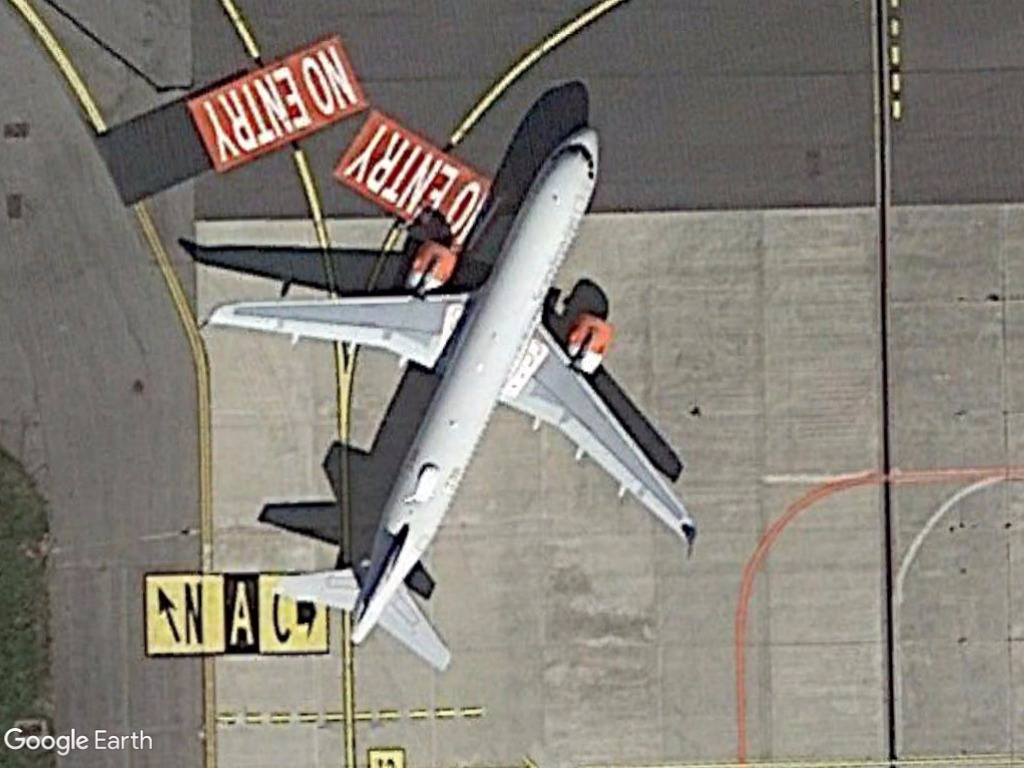airliner: (197, 95, 702, 683)
